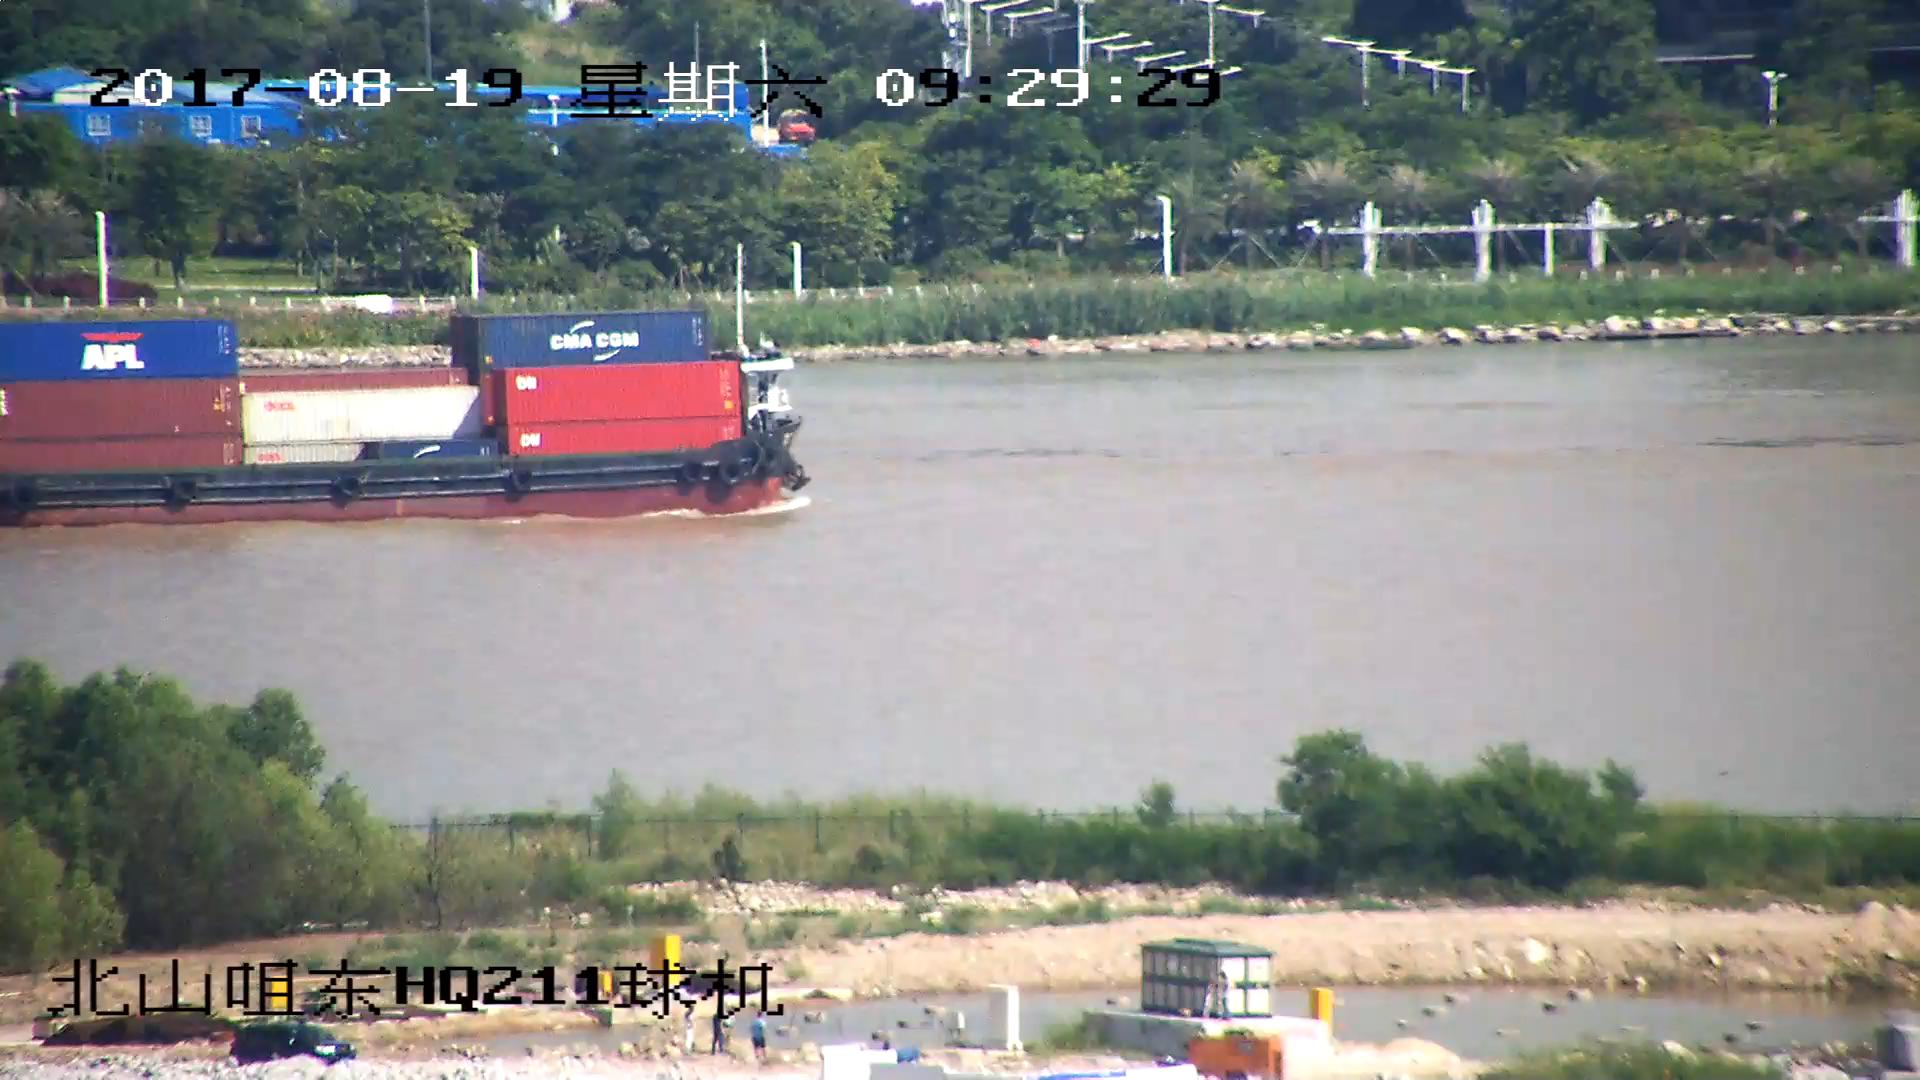container ship: (1, 247, 818, 522)
